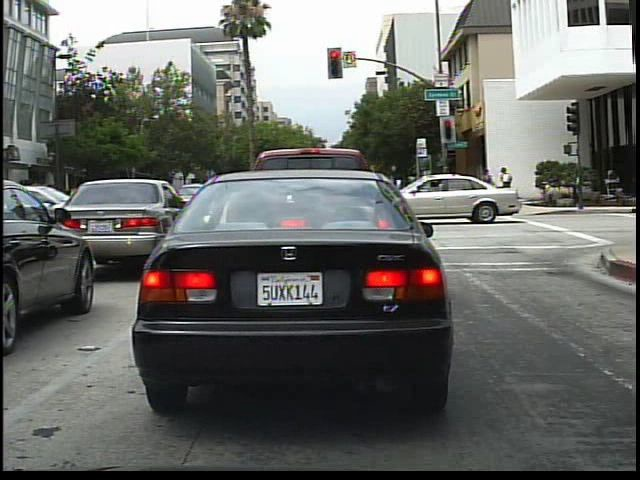person: (136, 169, 172, 228), (476, 164, 496, 206), (496, 162, 515, 204)
